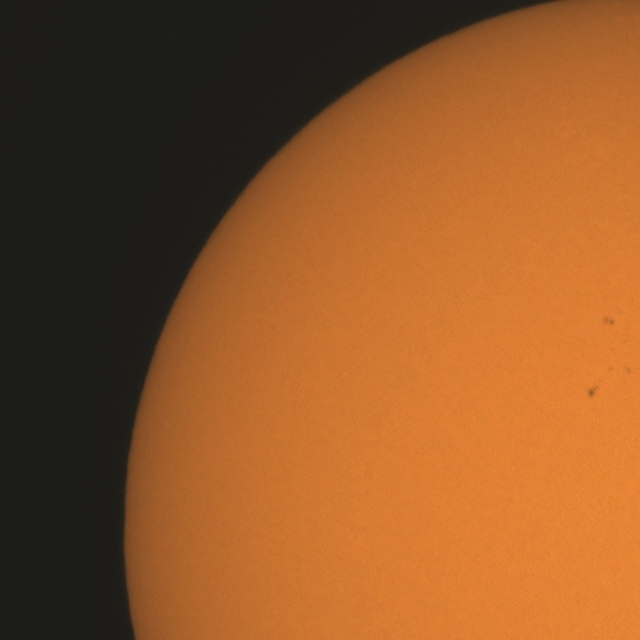sunspot: (587, 384, 600, 398), (602, 316, 616, 327)
